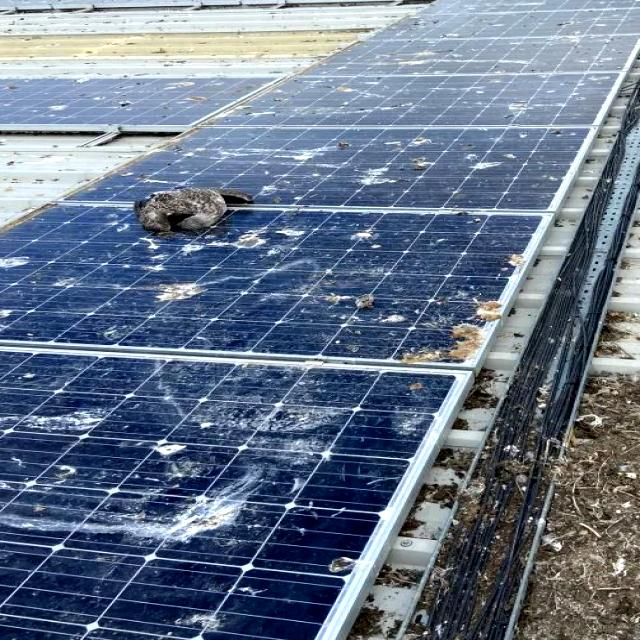bird: (136, 498, 269, 548), (118, 431, 229, 468), (316, 280, 401, 324), (152, 595, 230, 640), (338, 155, 416, 193), (394, 40, 471, 78), (144, 274, 207, 310), (226, 230, 306, 258), (460, 148, 533, 176), (306, 548, 376, 576), (0, 365, 70, 391), (33, 96, 86, 126), (0, 246, 58, 270), (508, 88, 537, 121)
